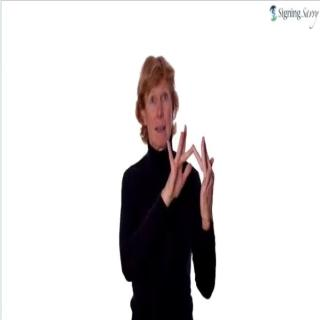Internet: (117, 52, 217, 319)
